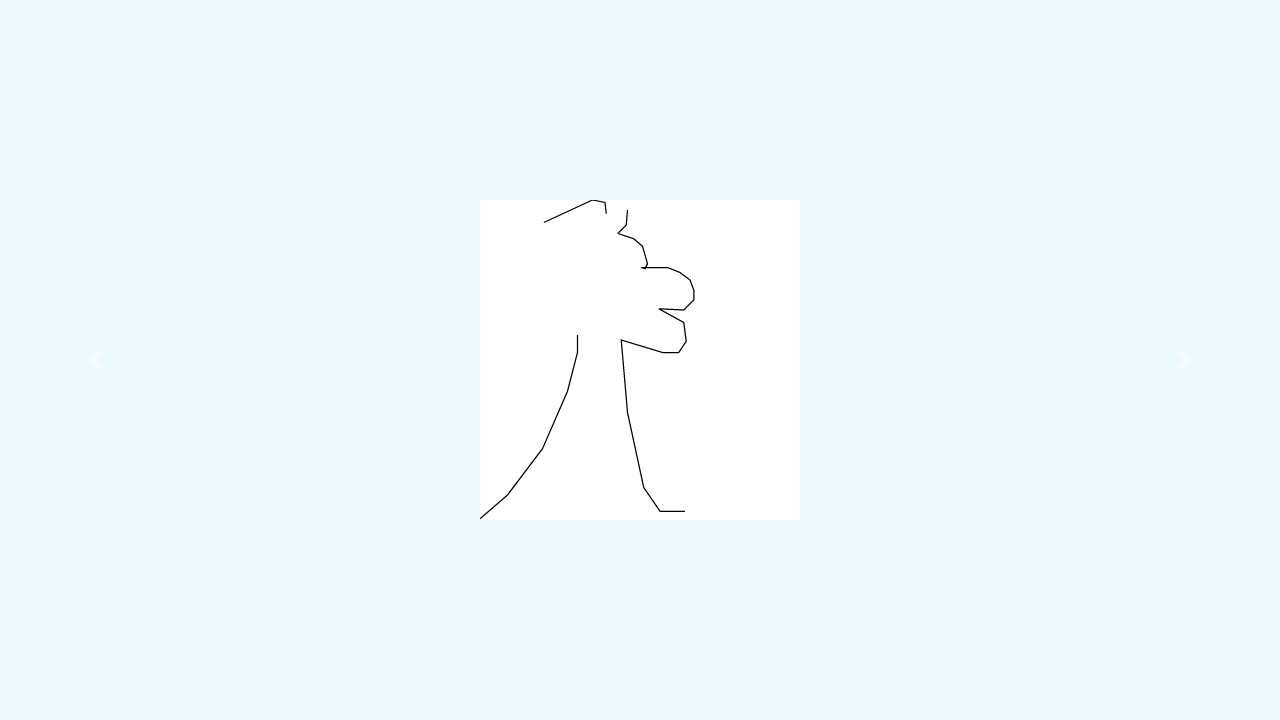tree: (472, 194, 699, 532)
